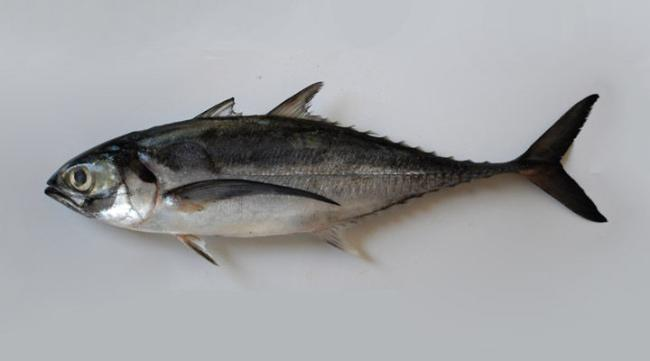fish: (44, 81, 609, 264)
